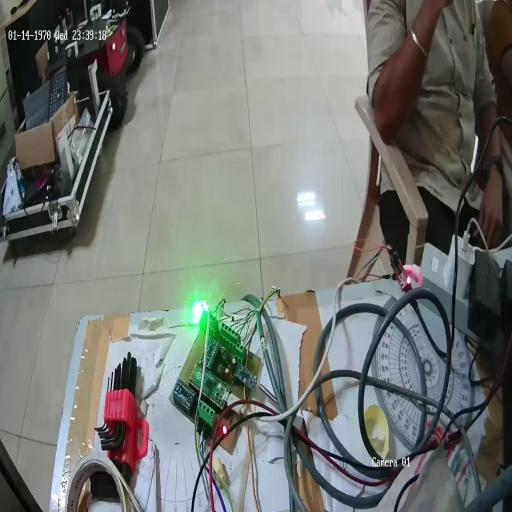laser: (188, 297, 209, 326)
